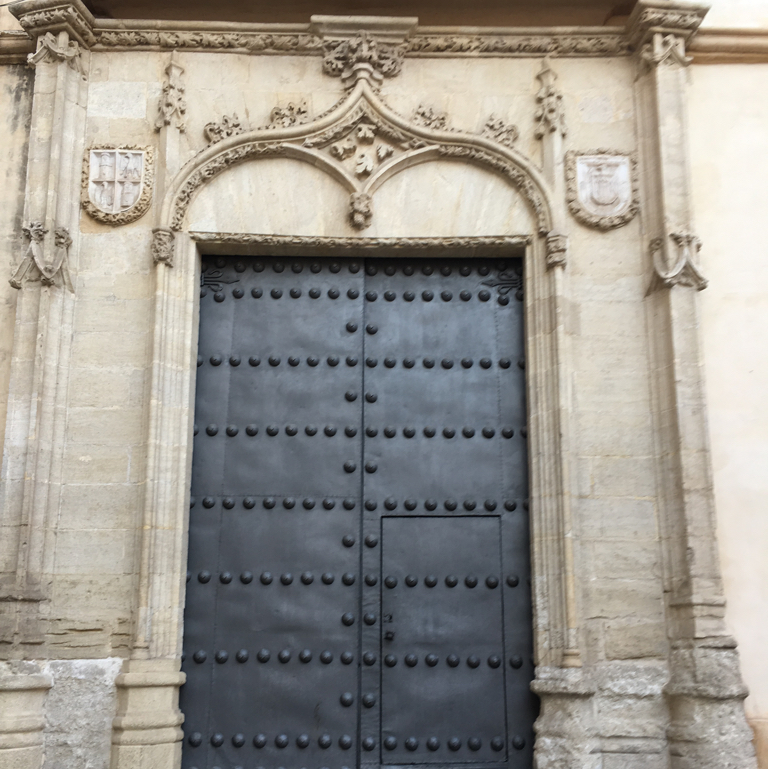arco-conopial: (164, 72, 557, 204)
